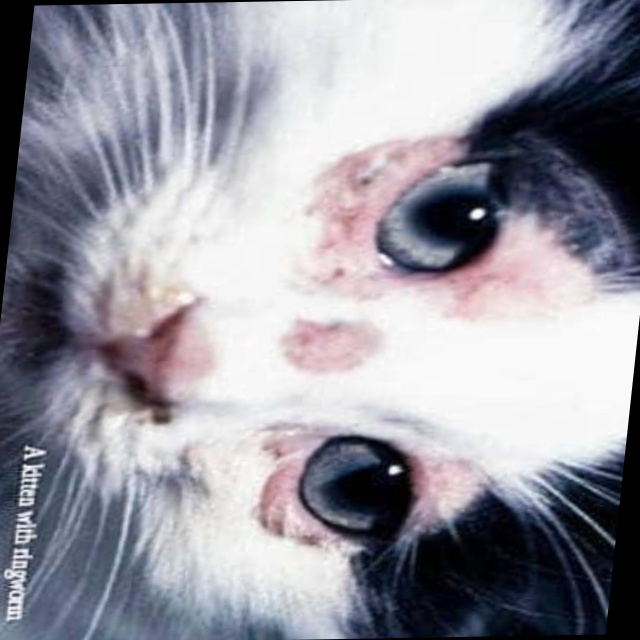ringworm: (293, 132, 450, 286), (252, 441, 324, 537), (275, 331, 382, 375)
